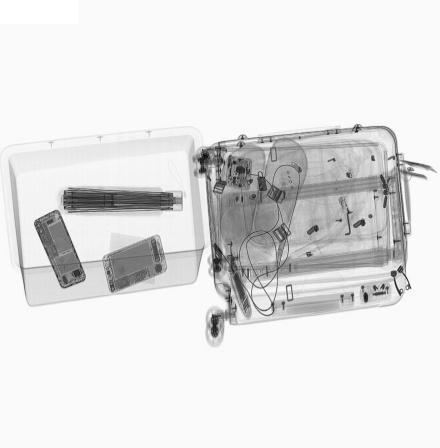Lighter: (338, 195, 357, 228)
